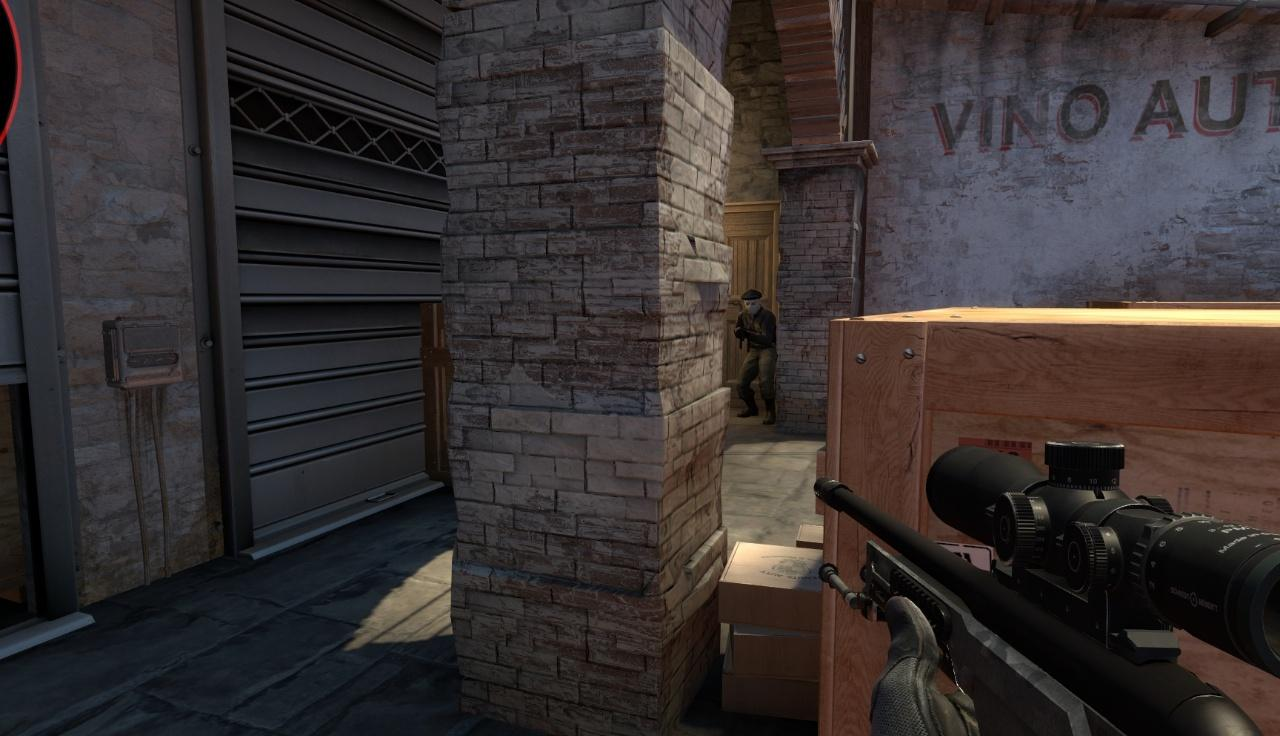sniper: (803, 448, 1280, 736)
tt: (737, 289, 775, 423)
tthead: (742, 290, 761, 314)
